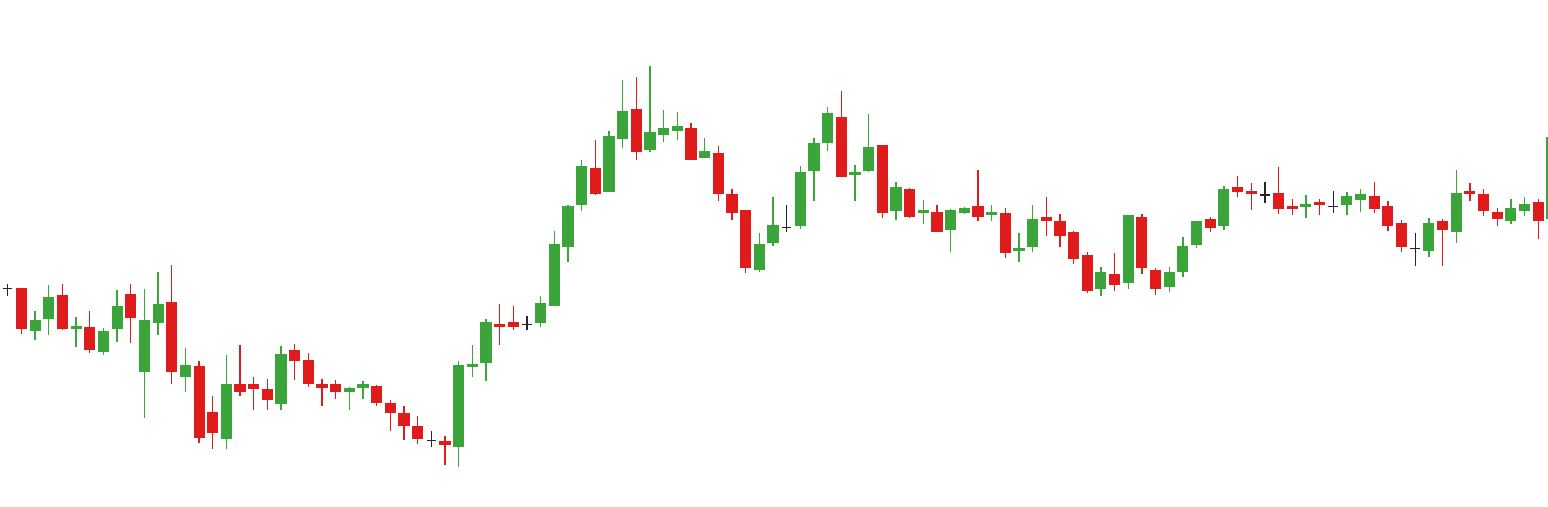sell: (672, 90, 851, 217)
